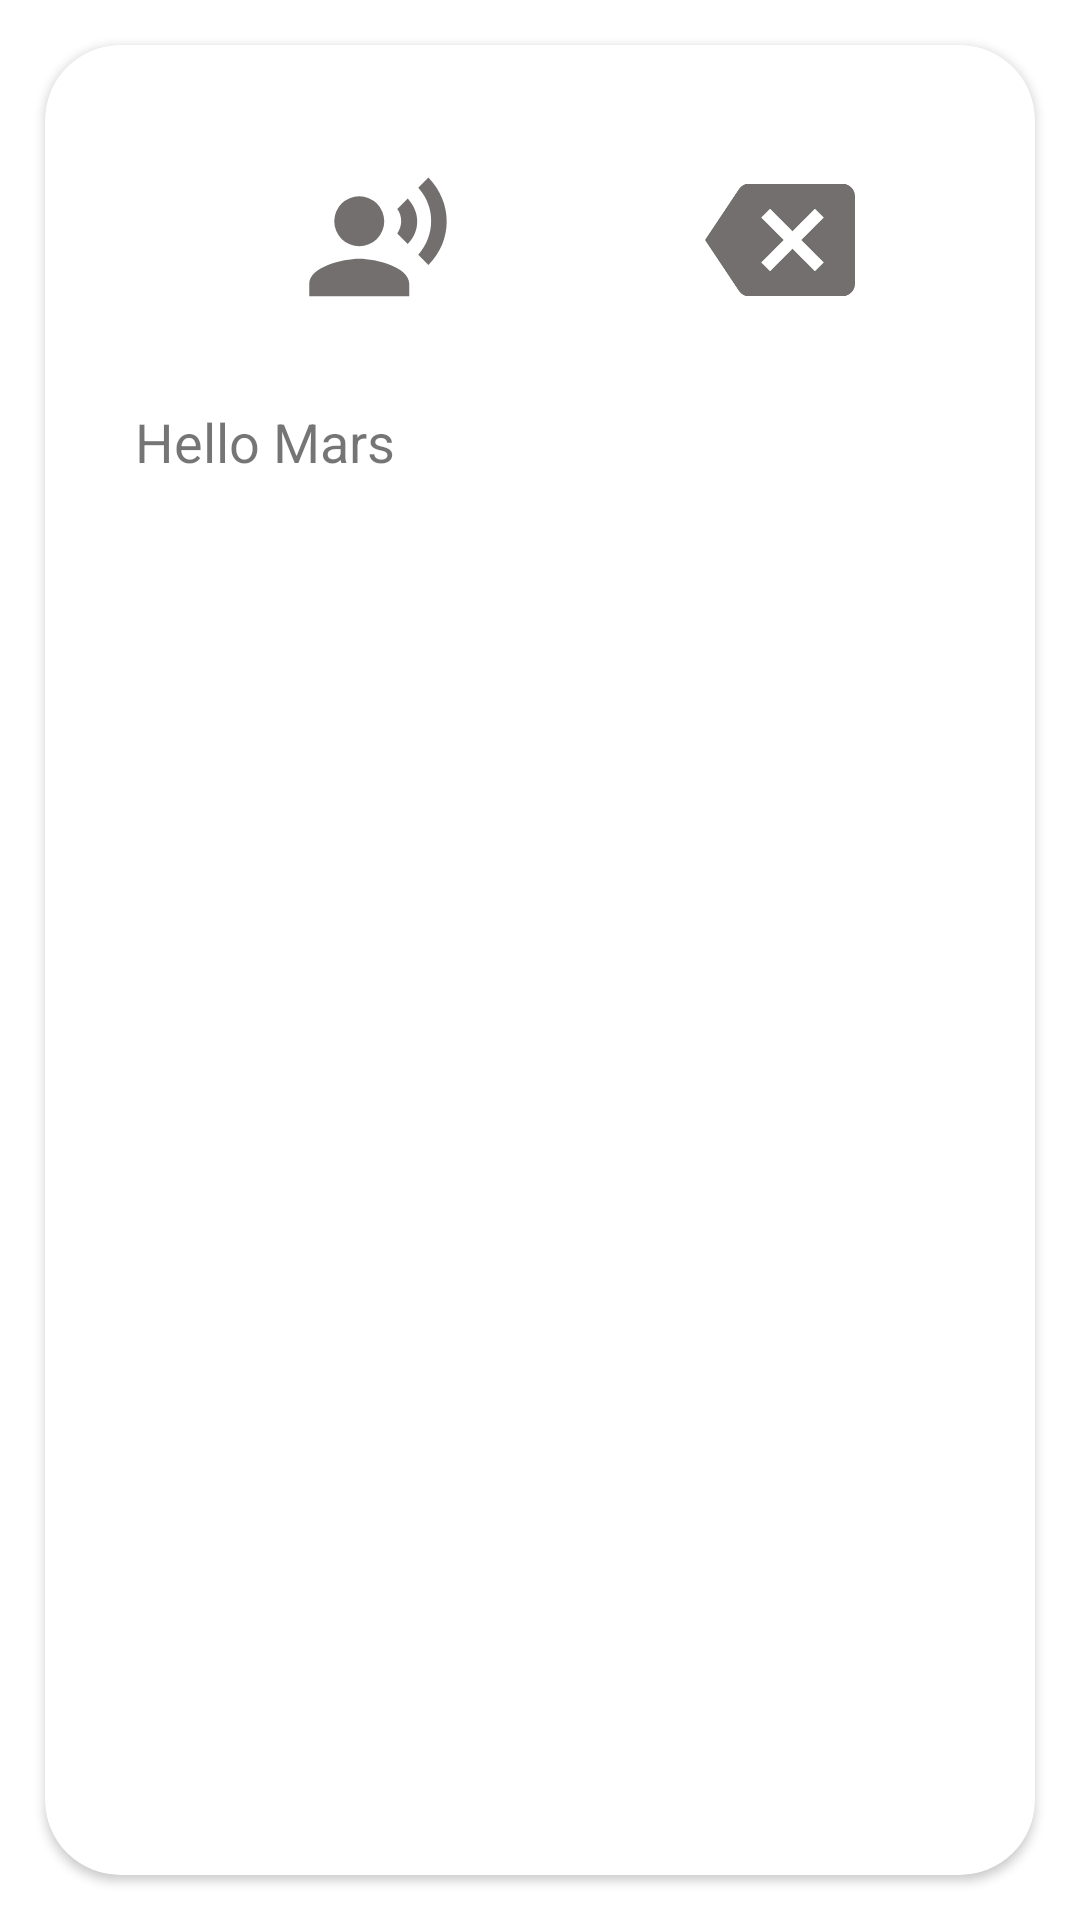

Named icons in this screenshot (1080px x 1920px) and their bounding boxes, (x1, y1, x2, y2):
backspace: (705, 184, 855, 296)
record voice over: (309, 177, 447, 297)
